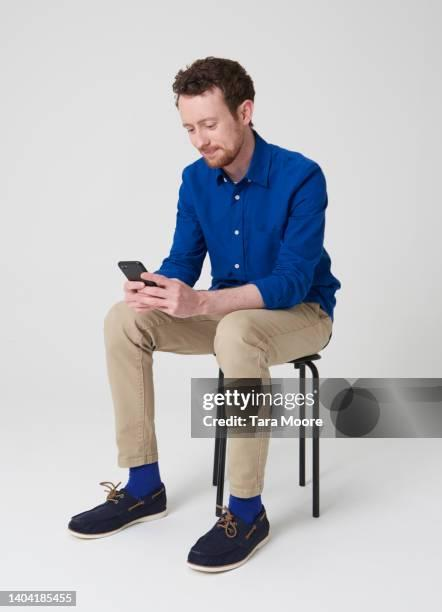long sleeve shirt: (146, 133, 343, 313)
trousers: (101, 299, 332, 500)
